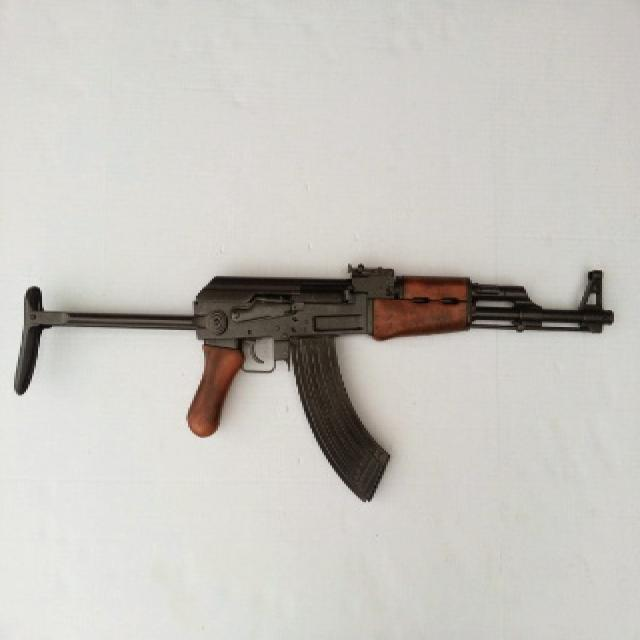rifle: (3, 247, 619, 506)
